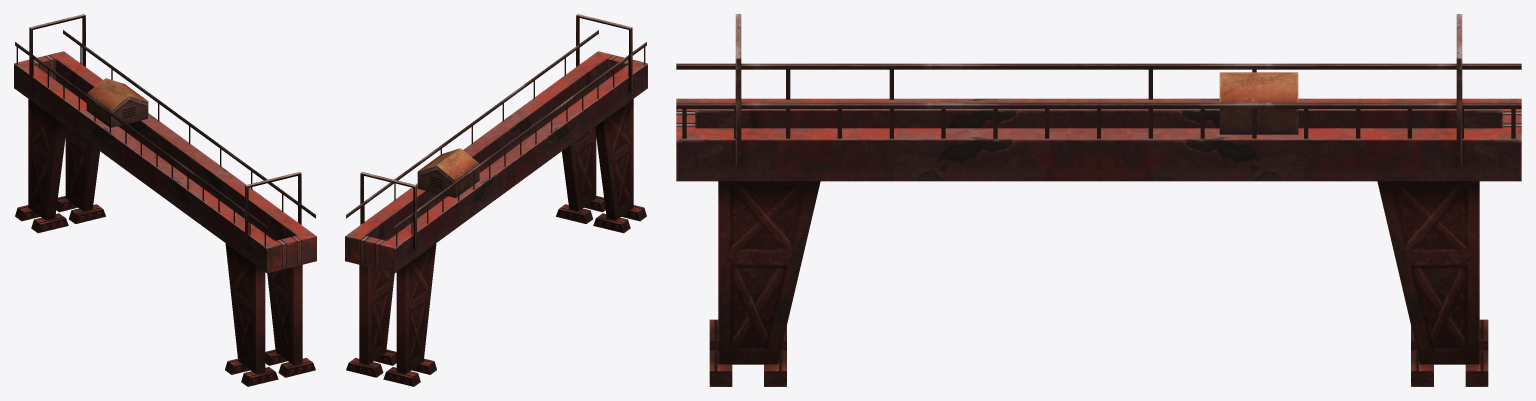
The model's file is Dhz_AluminumMinedm_01b.FBX.
The picture shows the model from 3 angles, left to right: view 1: azimuth 30°, elevation 25°; view 2: azimuth 150°, elevation 25°; view 3: azimuth 270°, elevation 25°; orthographic projection. The views are drawn at different scales.
Visible parts, largest first — view 1: Dhz_AluminumMinedm_02; view 2: Dhz_AluminumMinedm_02; view 3: Dhz_AluminumMinedm_02.
Part boxes in pixels (left/top/right/bottom): Dhz_AluminumMinedm_02: left=14, top=14, right=316, bottom=386; Dhz_AluminumMinedm_02: left=345, top=14, right=647, bottom=386; Dhz_AluminumMinedm_02: left=676, top=14, right=1521, bottom=386.
Bounding box in the file's own units: 12.15 × 32.88 × 78.03.
